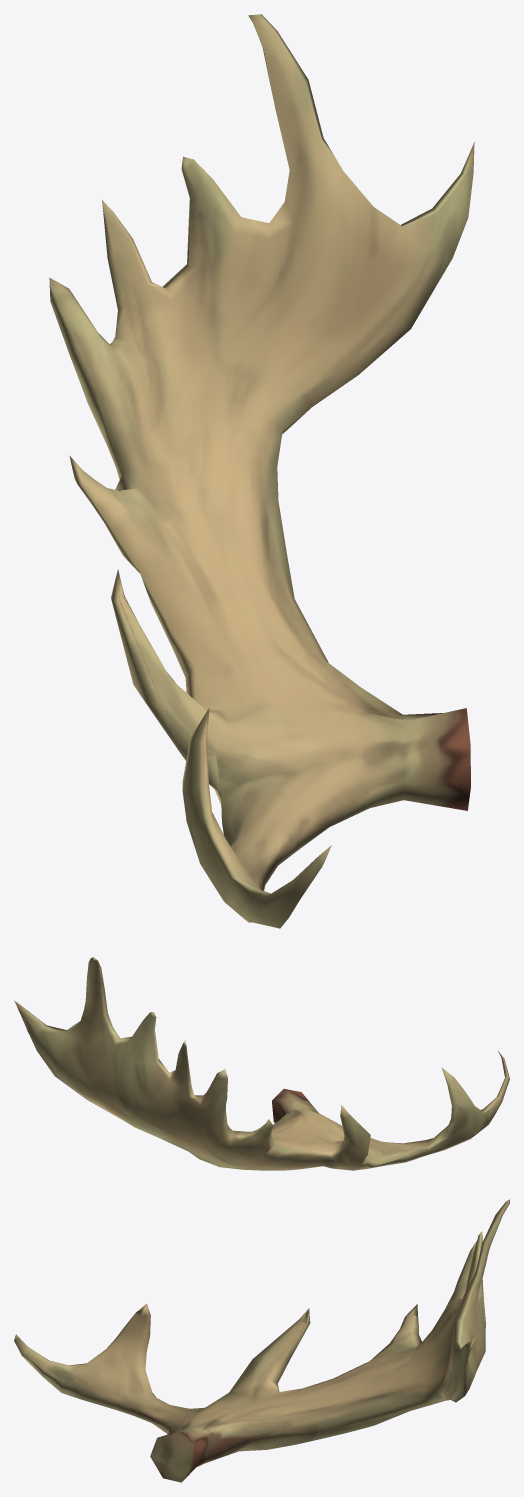
File: MooseHorn.fbx
3 renders of one model, top to bottom at view 1: azimuth 30°, elevation 25°; view 2: azimuth 150°, elevation 25°; view 3: azimuth 270°, elevation 25°, orthographic. The views are drawn at different scales.
Visible parts, largest first — view 1: MooseHorn; view 2: MooseHorn; view 3: MooseHorn.
Boxes of the visible parts, x1,y1,x2,y2 form: MooseHorn: [49, 14, 474, 928]; MooseHorn: [14, 957, 509, 1170]; MooseHorn: [14, 1199, 509, 1482].
Bounding box in the file's own units: 13.78 × 12.23 × 17.81.
